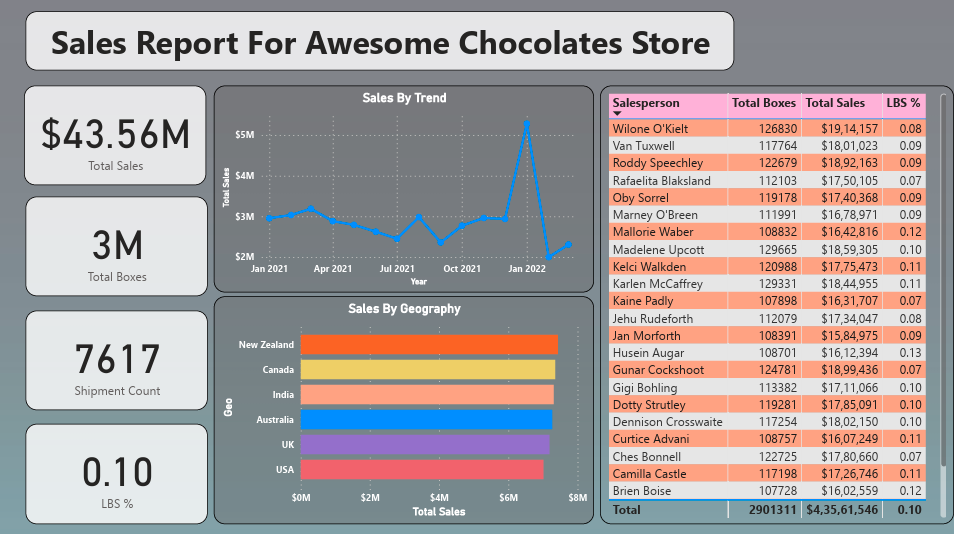

What the dashboard file says about the page in this screenshot:
{"tool":"powerbi","page":{"name":"Page 1","canvas":[1280,720],"ordinal":0},"visuals":[{"type":"card","fields":{"Values":["awesome_chocolates sales.Total Sales"]},"box":[40,121.7,243.3,133.3],"z":0},{"type":"card","fields":{"Values":["awesome_chocolates sales.Total Boxes"]},"box":[41.7,270,243.3,133.3],"z":1},{"type":"card","fields":{"Values":["awesome_chocolates sales.Shipment Count"]},"box":[41.7,421.7,243.3,133.3],"z":2},{"type":"card","fields":{"Values":["awesome_chocolates sales.LBS %"]},"box":[41.7,573.3,243.3,133.3],"z":3},{"type":"clusteredBarChart","title":"Sales By Geography","fields":{"Category":["awesome_chocolates geo.Geo"],"Y":["awesome_chocolates sales.Total Sales"]},"box":[293.3,403.3,506.7,303.3],"z":4},{"type":"lineChart","title":"Sales By Trend","fields":{"Category":["awesome_chocolates sales.SaleDate.Variation.Date Hierarchy.Year","awesome_chocolates sales.SaleDate.Variation.Date Hierarchy.Quarter","awesome_chocolates sales.SaleDate.Variation.Date Hierarchy.Month"],"Y":["awesome_chocolates sales.Total Sales"]},"box":[293.3,121.7,506.7,276.7],"z":5},{"type":"tableEx","fields":{"Values":["awesome_chocolates people.Salesperson","awesome_chocolates sales.Total Boxes","awesome_chocolates sales.Total Sales","awesome_chocolates sales.LBS %"]},"box":[808.3,121.7,471.7,585],"z":6},{"type":"textbox","box":[41.7,23.3,945,78.3],"z":7}]}

Visuals, with their boxes in screenshot pixels (x1, y1, x2, y2), scaled from the page's 1280x720 canvas onto the 954x534 screenshot:
card - awesome_chocolates sales.Total Sales: locate(30, 90, 211, 189)
card - awesome_chocolates sales.Total Boxes: locate(31, 200, 212, 299)
card - awesome_chocolates sales.Shipment Count: locate(31, 313, 212, 412)
card - awesome_chocolates sales.LBS %: locate(31, 425, 212, 524)
"Sales By Geography" clusteredBarChart: locate(219, 299, 596, 524)
"Sales By Trend" lineChart: locate(219, 90, 596, 295)
tableEx - awesome_chocolates people.Salesperson x awesome_chocolates sales.Total Boxes: locate(602, 90, 953, 524)
textbox: locate(31, 17, 735, 75)
